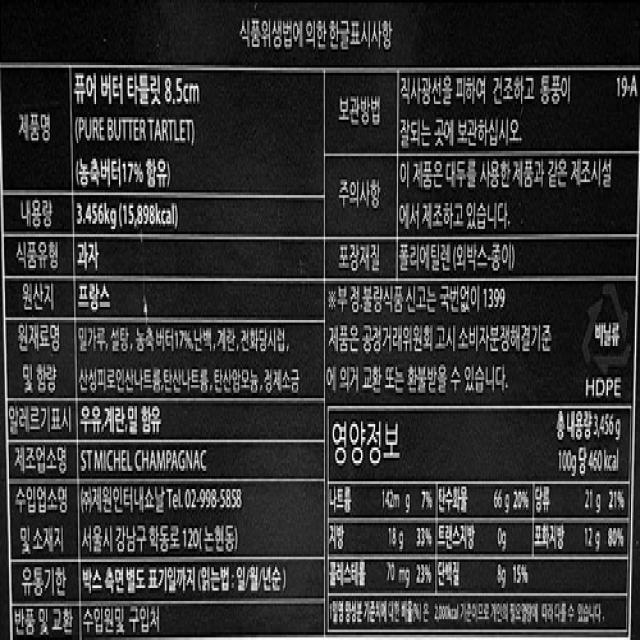Nutrition Label: (326, 400, 633, 638)
